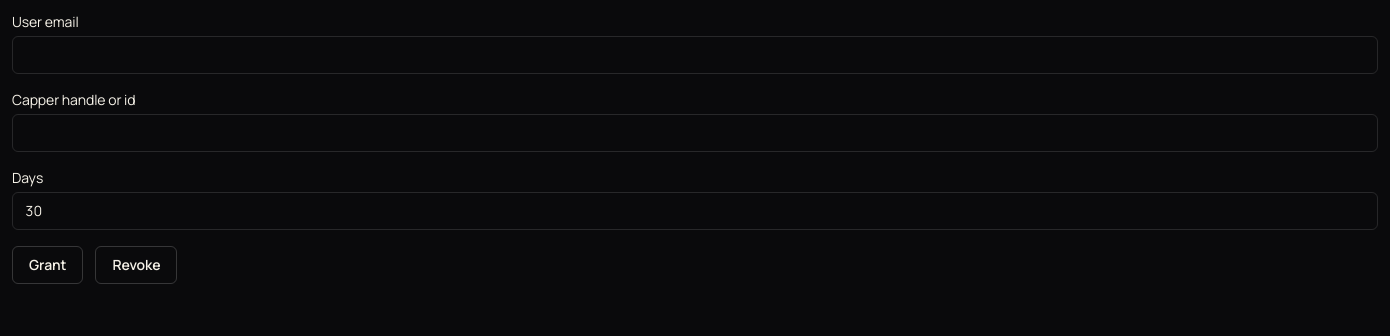
Scenario: VipGrantForm › grant without period end omits until clause
In the field labelled "User email": [695, 55] box top-left (12, 36), bottom-right (1378, 74), type "a@b.com"
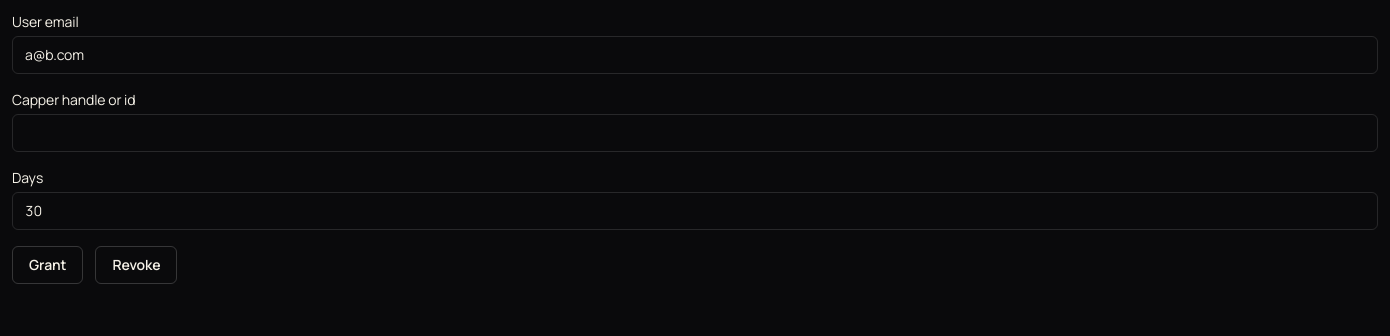
In the field labelled "Capper handle or id": [695, 133] box top-left (12, 114), bottom-right (1378, 152), type "swampy"
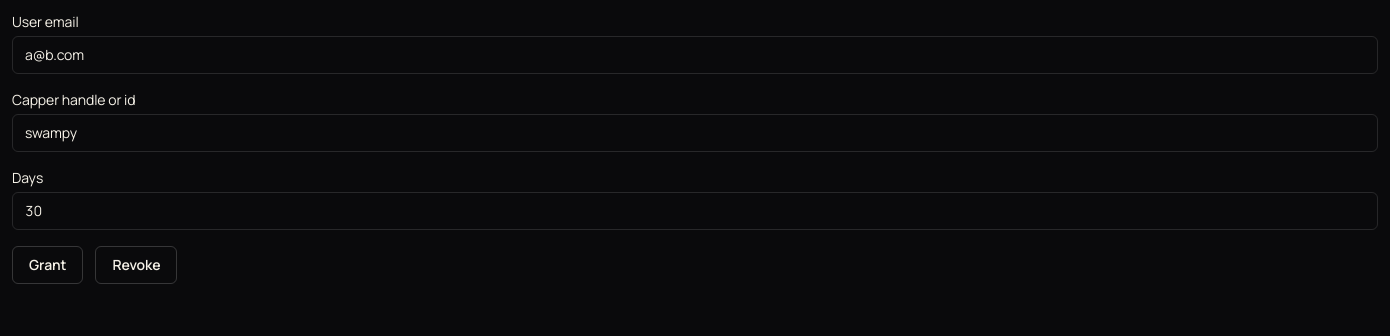
Click the button "Grant": [48, 265] box top-left (12, 246), bottom-right (83, 284)
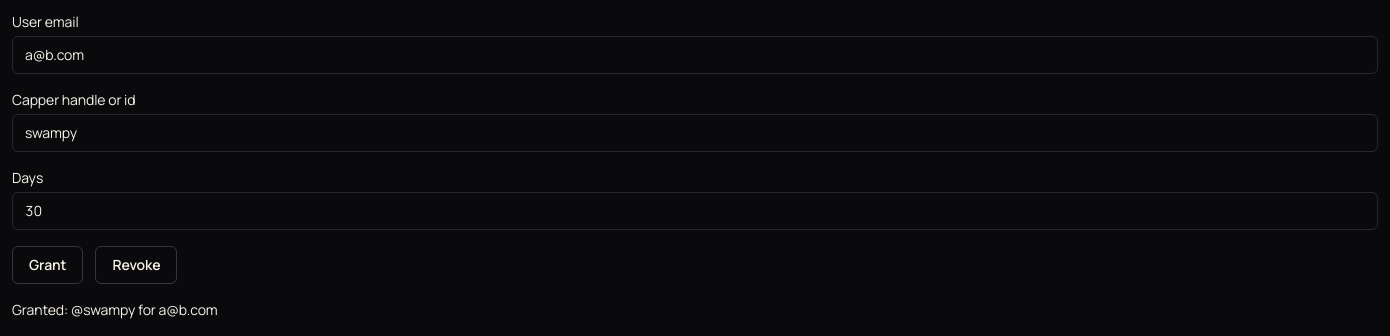
expect the text "Granted: @swampy for a@b.com" is shown: met, box top-left (12, 300), bottom-right (218, 319)
